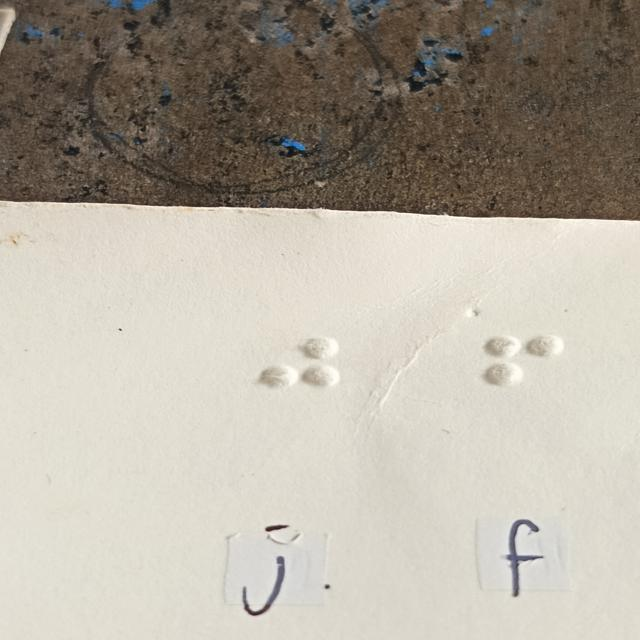letter_f: (488, 335, 565, 419)
letter_j: (259, 335, 337, 420)
